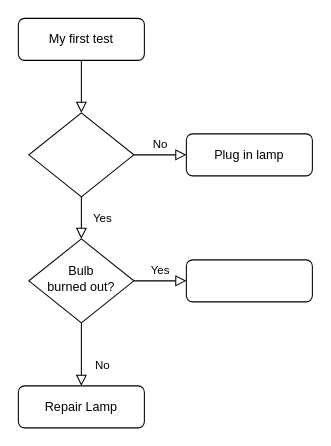
The diagram is 331 pixels wide and 446 high, and some of its shapes have lost their labels. The shapes that lost their labels are listed below. From the top down, each one's centre as x and y in pixels, then its label:
At pixel 81 154: "Lamp plugged in?".
At pixel 248 280: "Replace Bulb".
